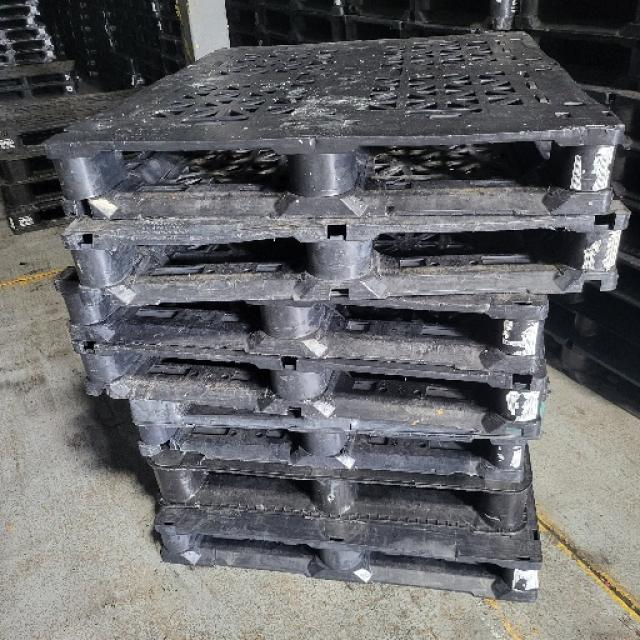igps: (36, 24, 634, 229), (54, 190, 640, 313), (49, 259, 558, 387), (65, 318, 557, 447), (149, 496, 550, 610), (142, 429, 534, 541), (124, 388, 532, 494), (0, 81, 154, 167), (0, 188, 82, 236), (0, 153, 71, 195), (0, 174, 70, 216), (0, 58, 79, 90), (0, 81, 81, 108), (0, 49, 61, 66), (0, 40, 56, 54), (0, 17, 49, 31), (0, 4, 43, 19), (0, 30, 54, 41), (0, 0, 40, 6)
